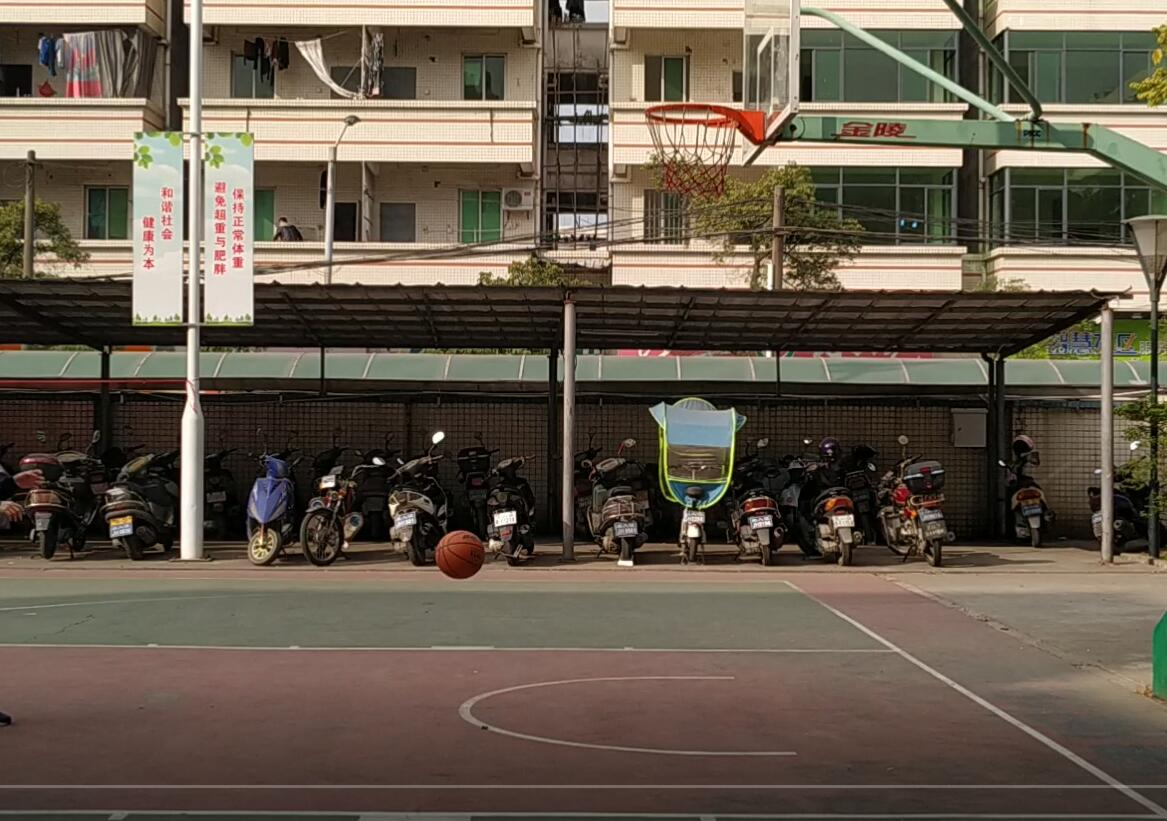basketball: (430, 525, 487, 582)
